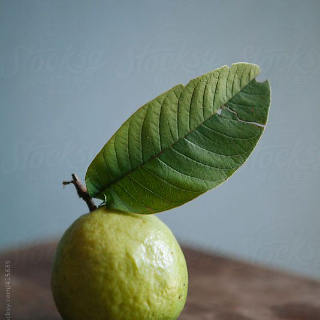oi: (51, 201, 186, 320)
